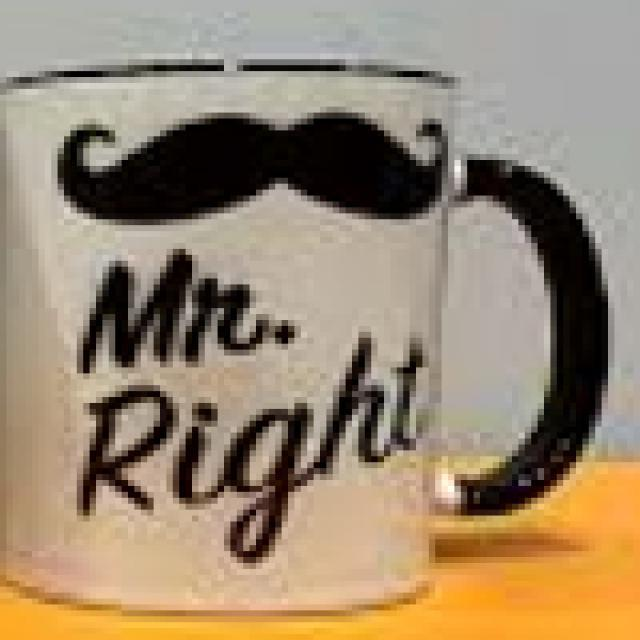taza: (1, 46, 625, 618)
